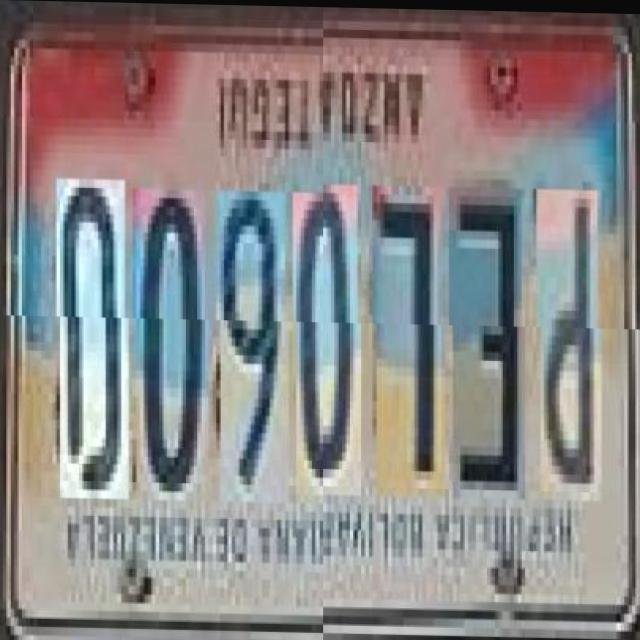0: (56, 169, 125, 490)
6: (217, 181, 284, 493)
e: (448, 185, 521, 497)
l: (373, 184, 442, 495)
o: (132, 180, 205, 491), (292, 182, 358, 494)
p: (536, 187, 597, 498)
